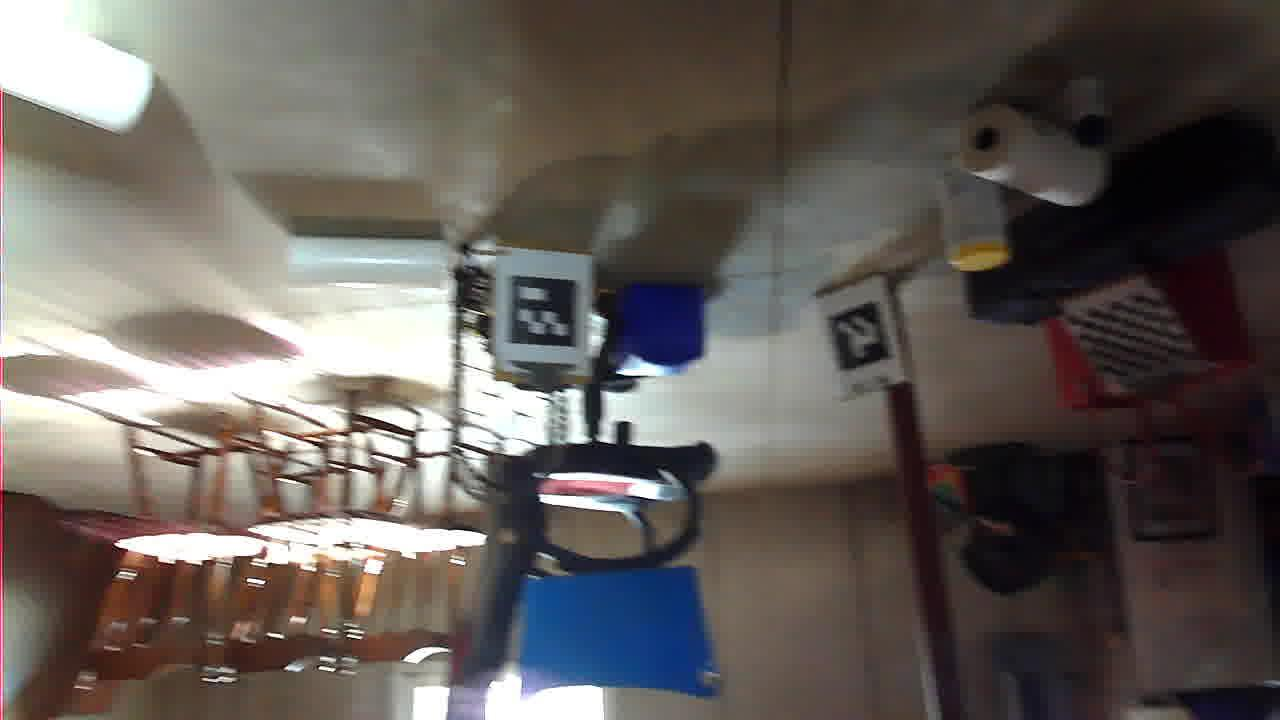coral: (829, 429, 992, 485)
